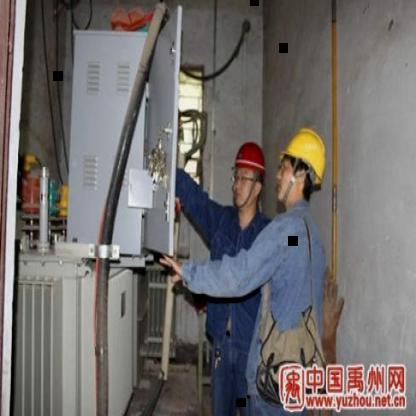helmet: (278, 117, 330, 190), (231, 136, 272, 186)
